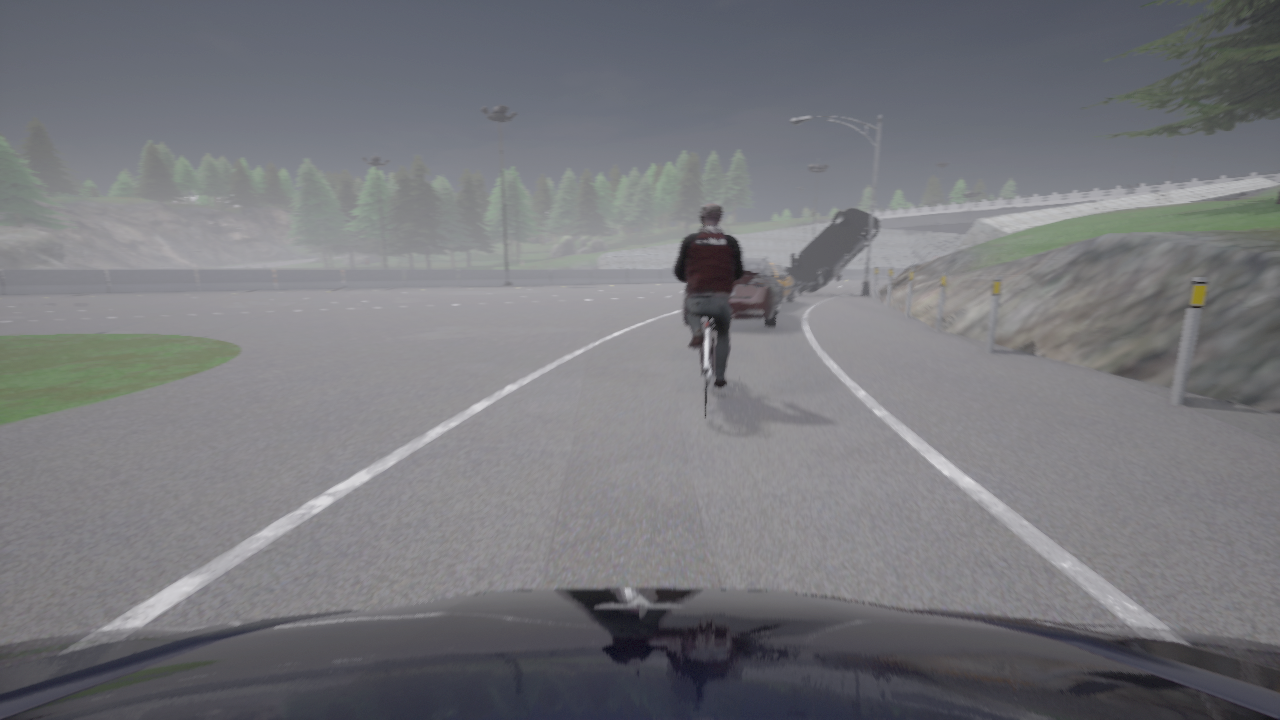cyclist: (0, 588, 1279, 719), (784, 207, 880, 296), (683, 257, 784, 327), (692, 318, 725, 418), (765, 258, 794, 307), (907, 265, 915, 268)
